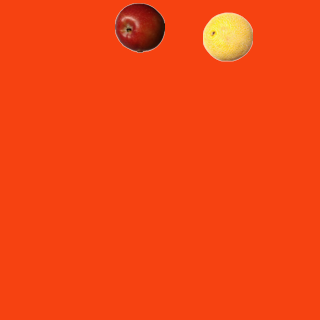Apple Braeburn: (114, 2, 164, 52)
Cantaloupe 1: (202, 11, 252, 61)
